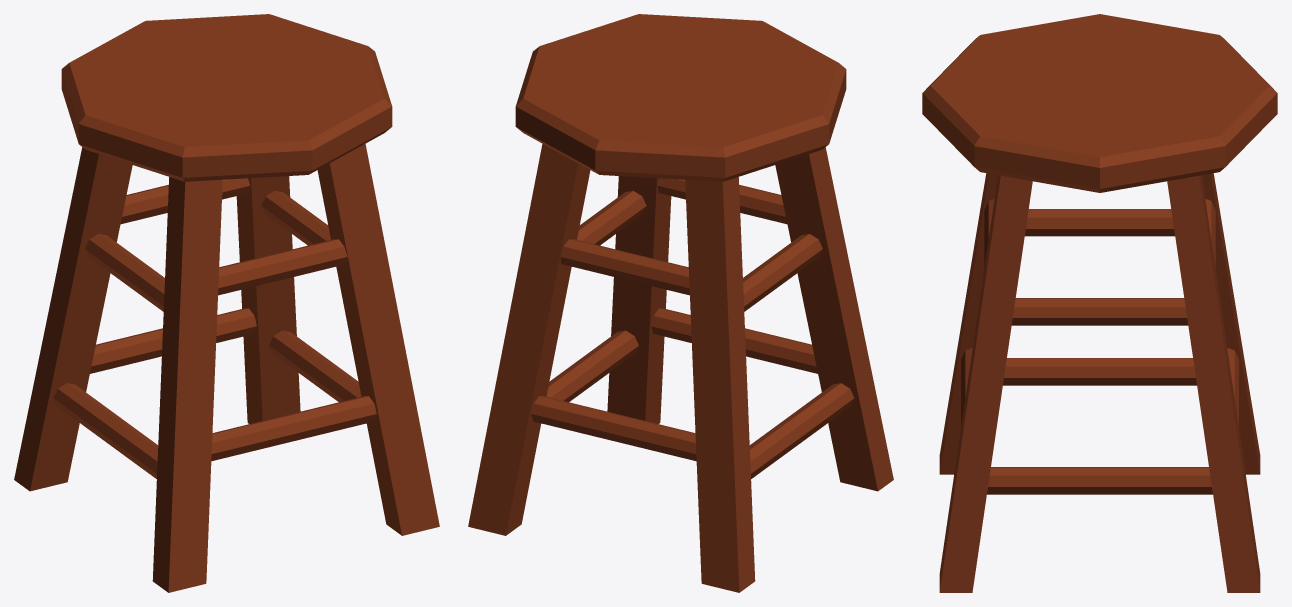
File: stool.gltf
3 views of the same model, side by side, from view 1: azimuth 30°, elevation 25°; view 2: azimuth 150°, elevation 25°; view 3: azimuth 270°, elevation 25° (orthographic). The views are drawn at different scales.
Visible parts, largest first — view 1: stool; view 2: stool; view 3: stool.
Boxes of the visible parts, box(x1,y1,x2,y2) form: stool: box(14, 14, 439, 592); stool: box(468, 14, 893, 592); stool: box(922, 14, 1277, 592).
Size of the model in its own units: 0.3601 by 0.4907 by 0.3601.
